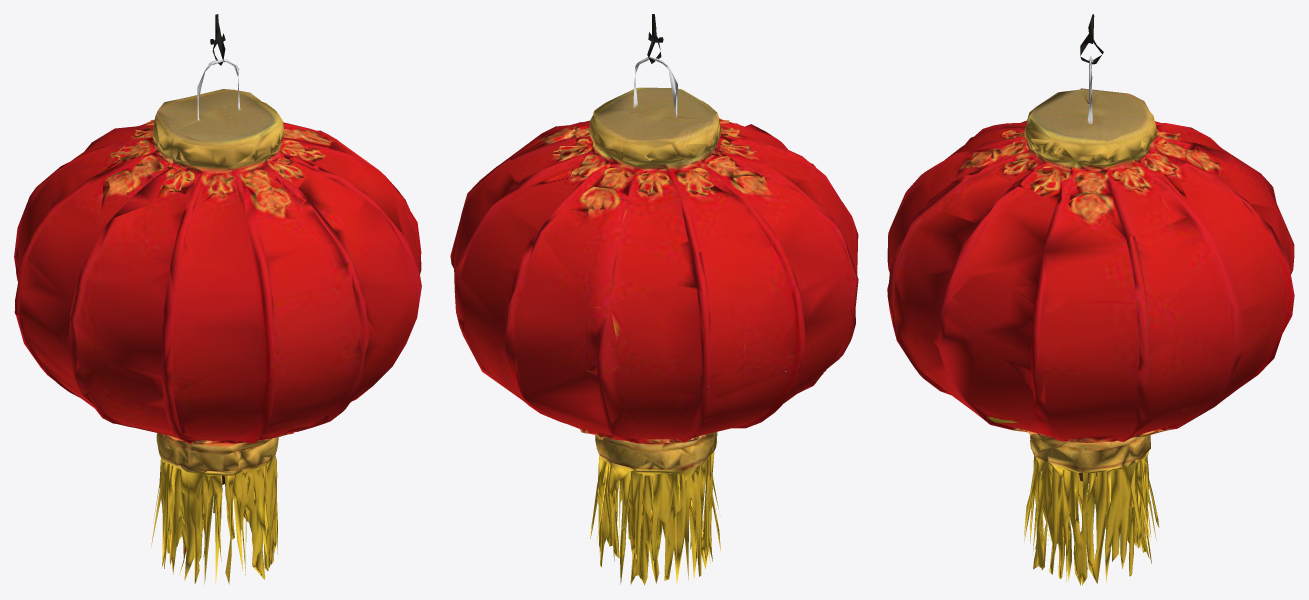
The model's file is paper-lantern.glb.
The picture shows the model from 3 angles, left to right: view 1: azimuth 30°, elevation 25°; view 2: azimuth 150°, elevation 25°; view 3: azimuth 270°, elevation 25°; orthographic projection.
Bounding box in the file's own units: 0.6597 × 0.9815 × 0.6601.
Materials: 1 (1 with a texture image).
